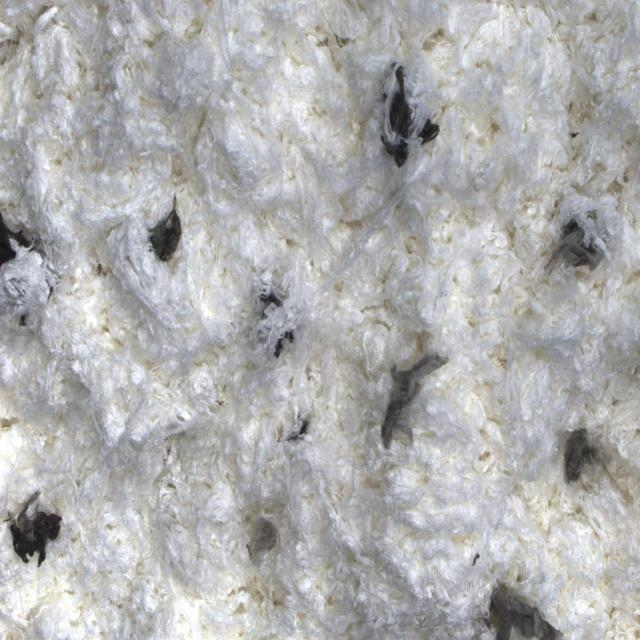dust: (372, 55, 447, 203), (374, 344, 454, 460), (0, 197, 62, 338), (470, 554, 565, 640), (559, 398, 623, 517), (132, 179, 197, 296), (0, 482, 71, 583), (227, 493, 292, 591), (544, 210, 609, 290), (256, 287, 301, 360), (276, 393, 316, 466)
